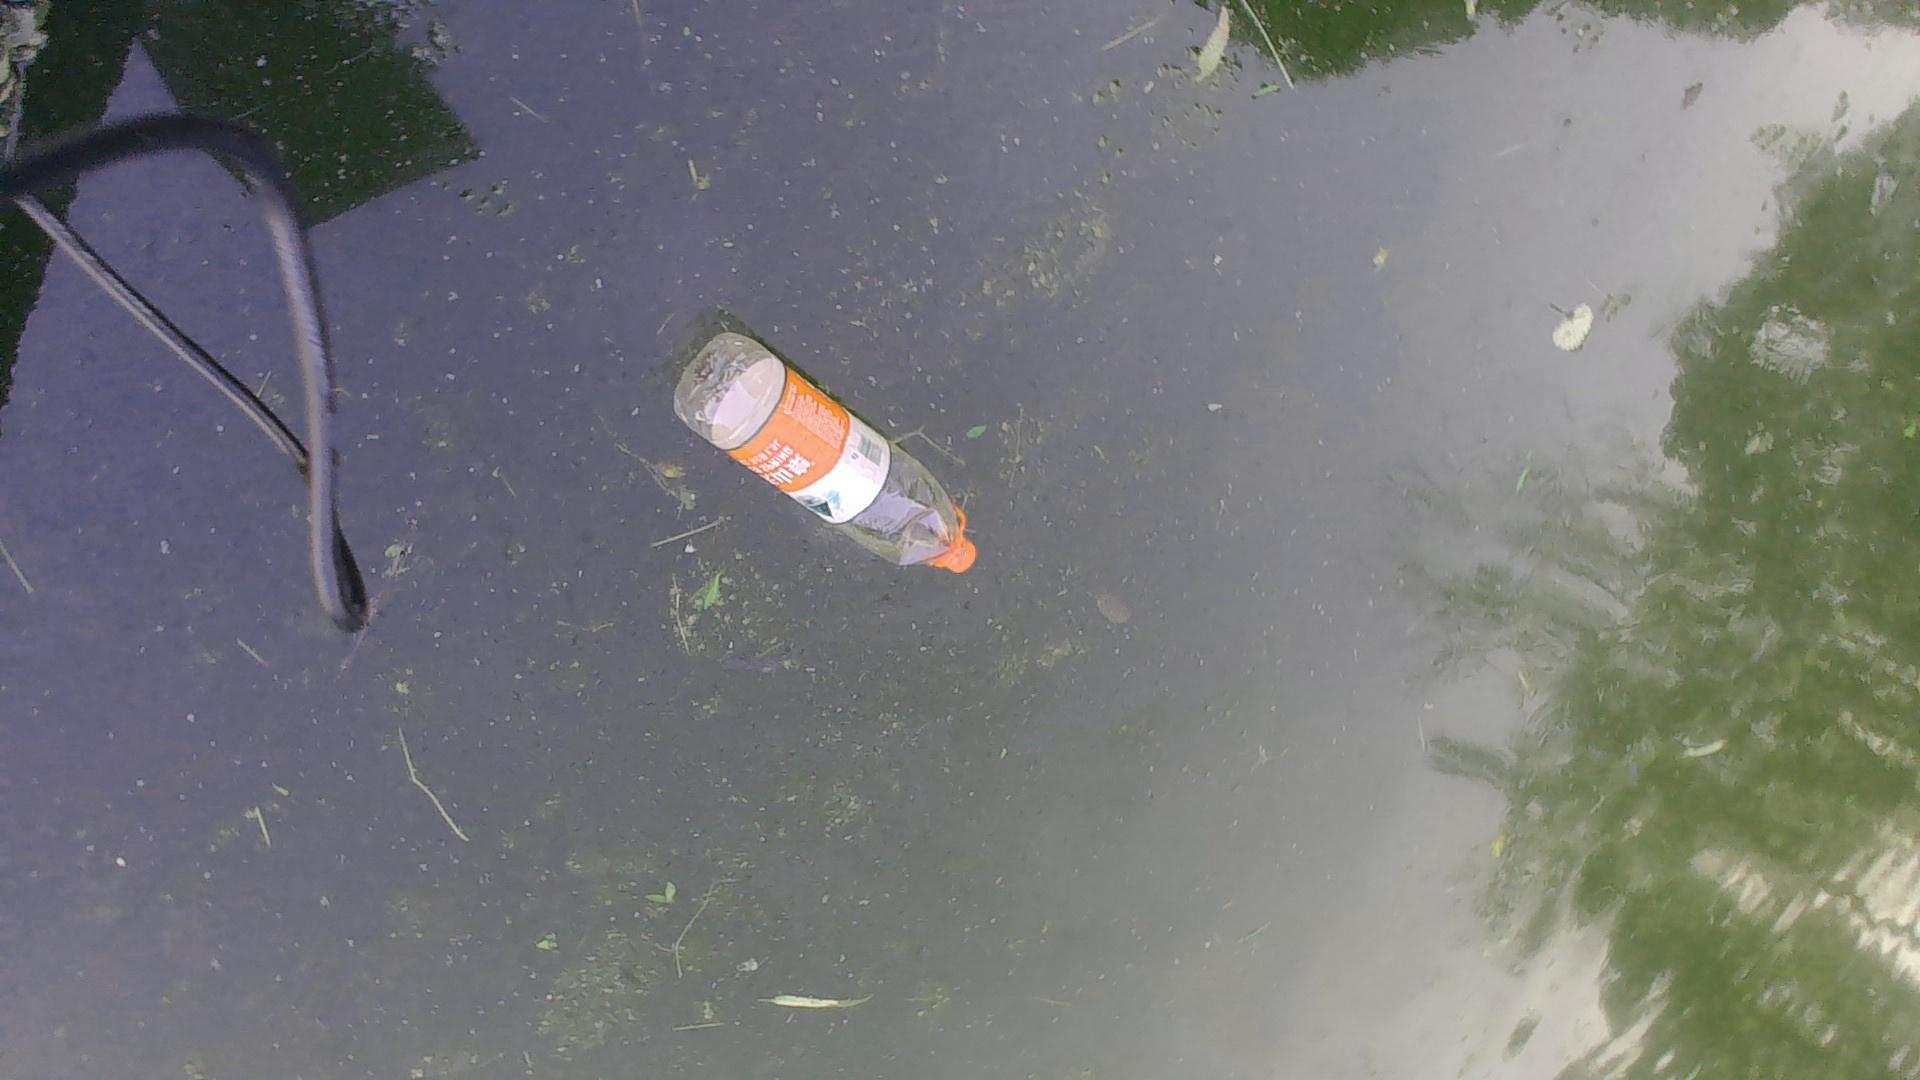Plastic: (669, 332, 986, 582)
